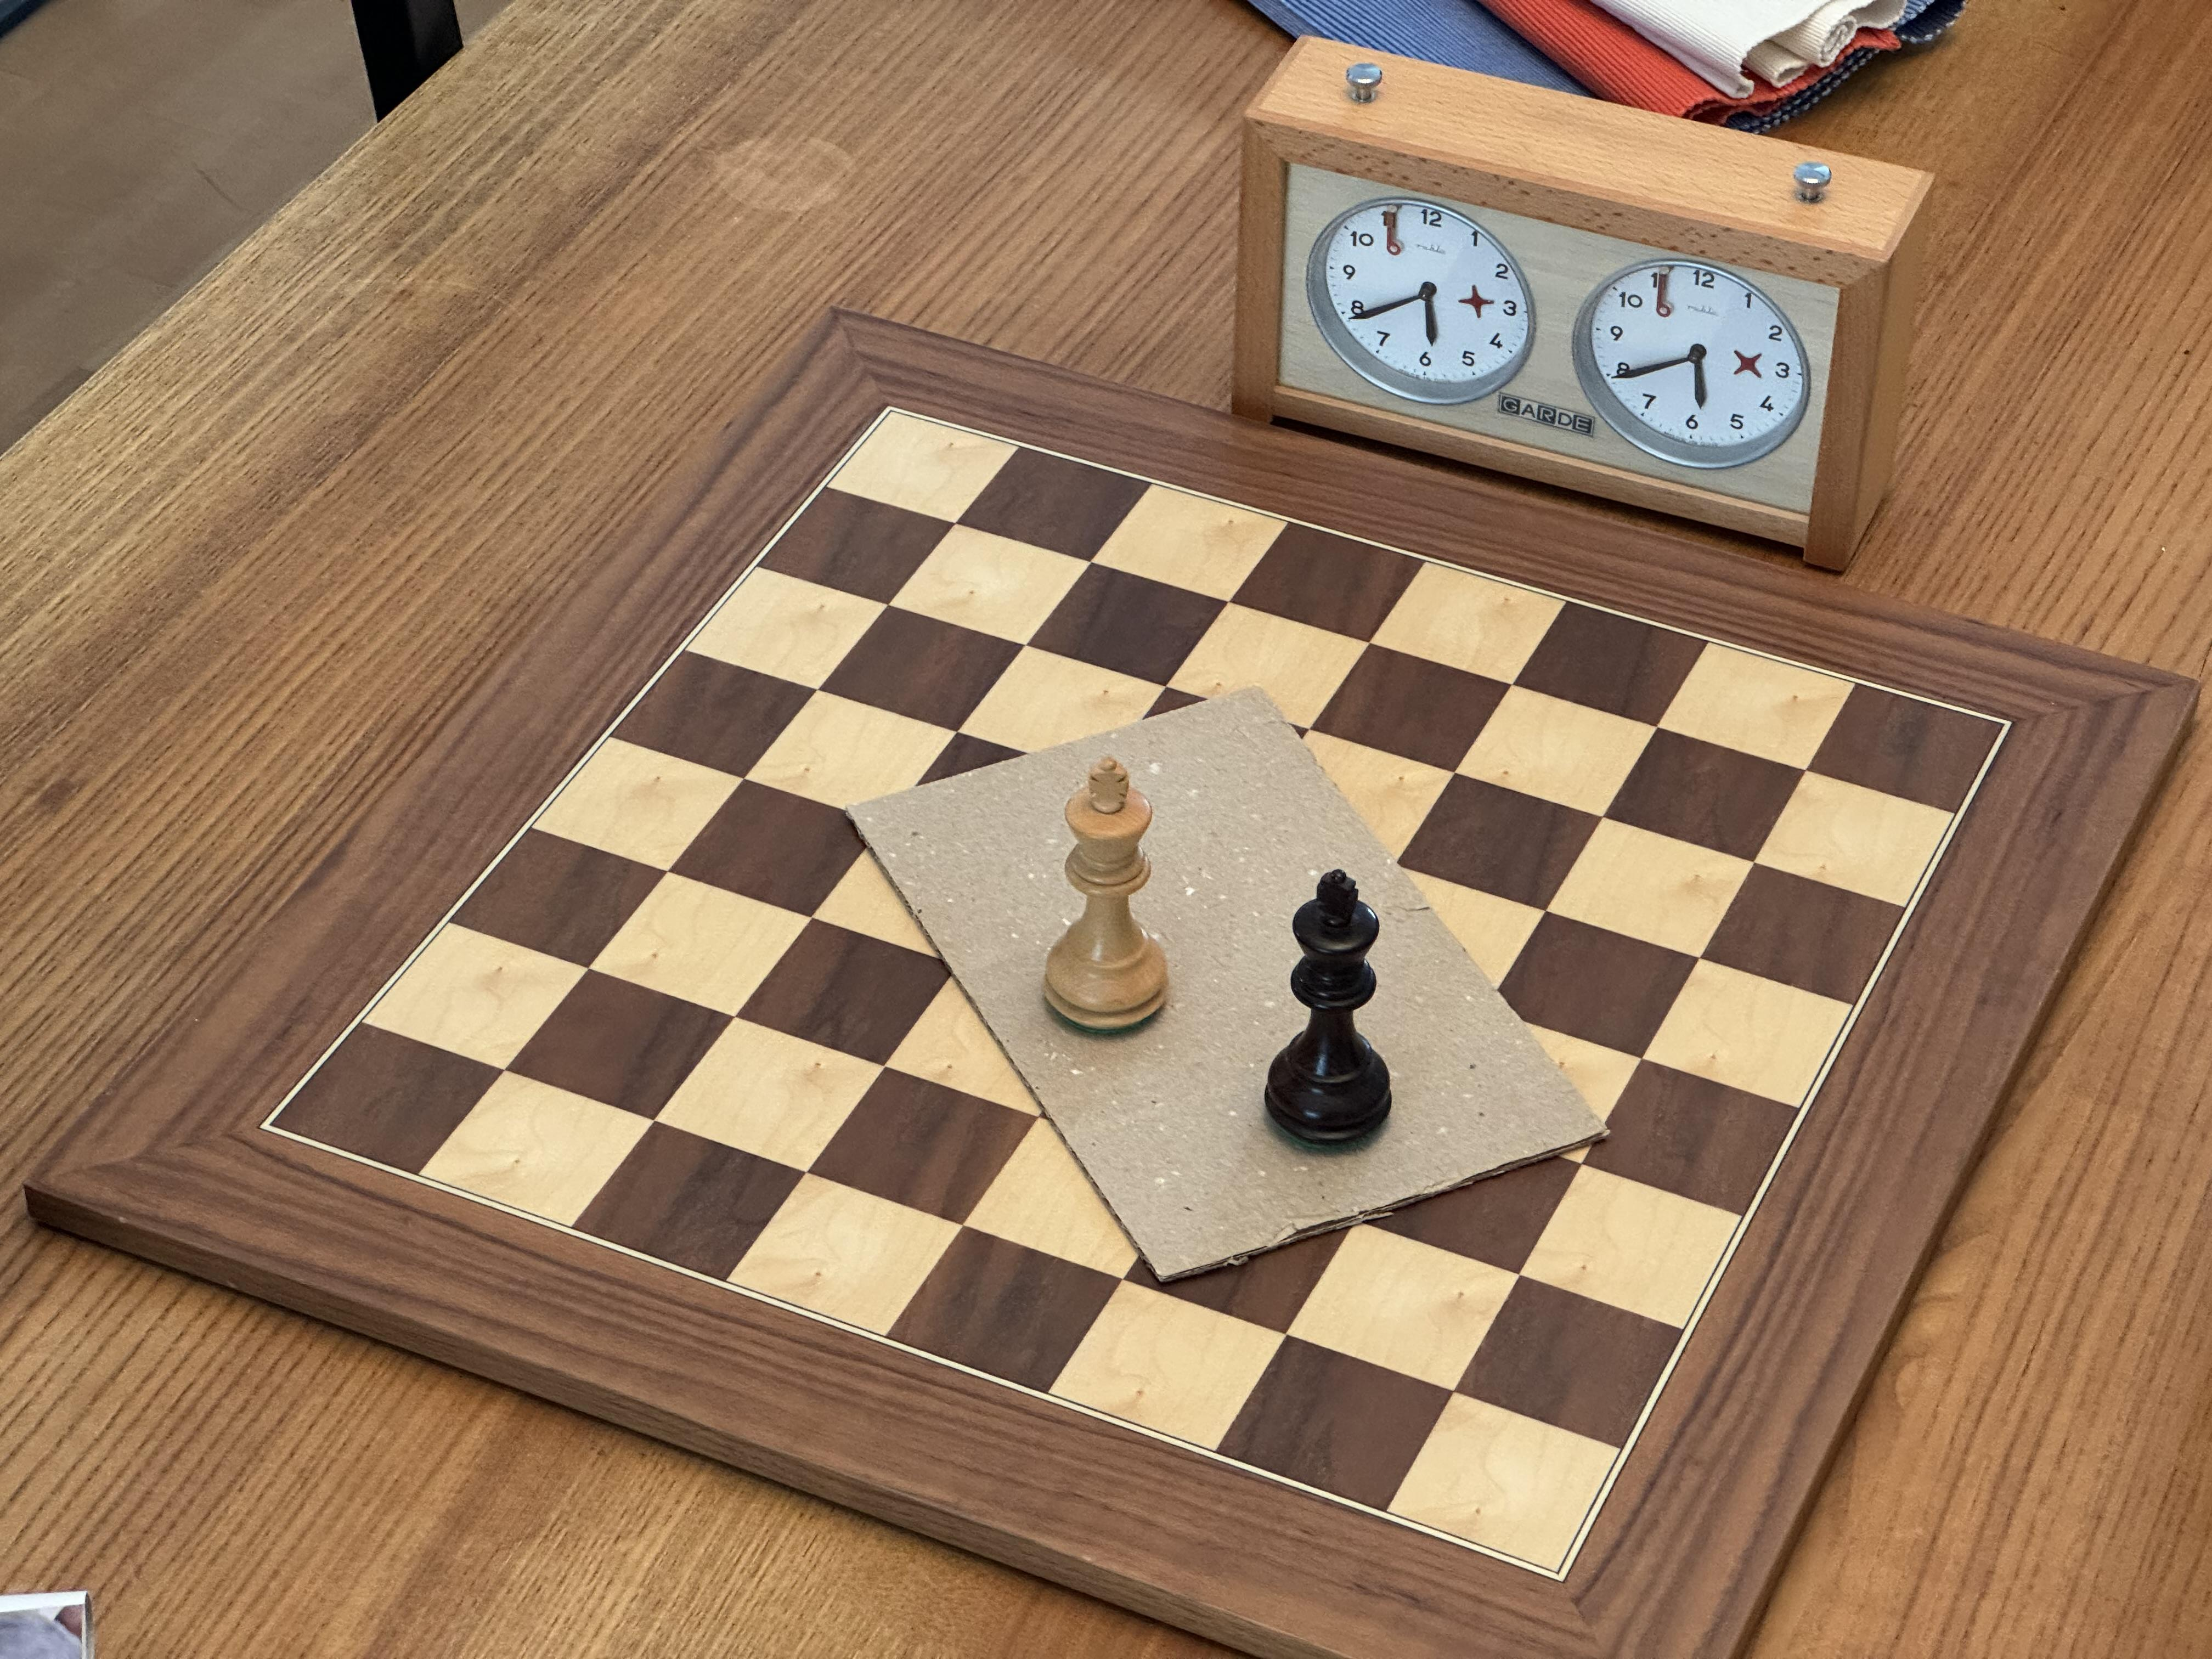corner A: (193, 1049, 329, 1190)
corner B: (1499, 1506, 1630, 1640)
corner C: (1951, 666, 2067, 781)
